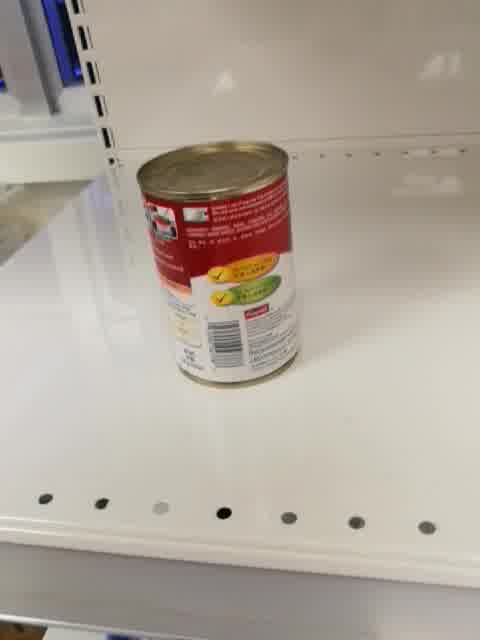tomatosoup: (134, 139, 302, 391)
